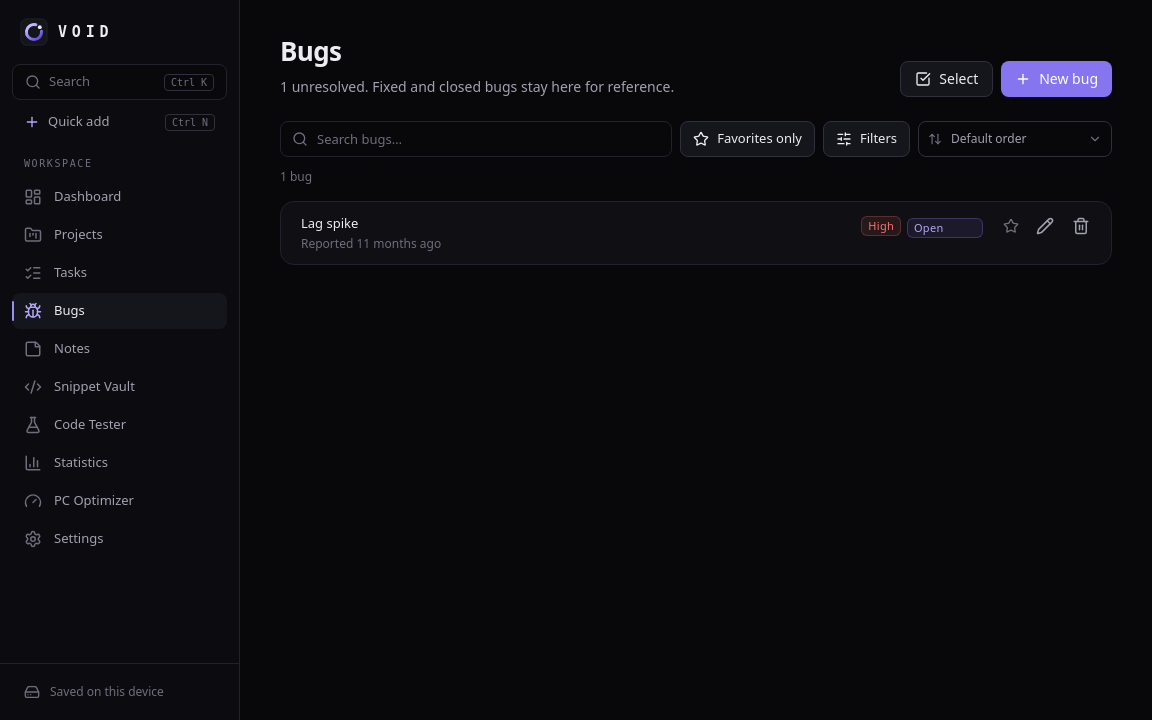
bug tracking › deletes a bug and can undo it
Click the button named "Delete Lag spike" at (1081,226), box [1063,208,1099,244]
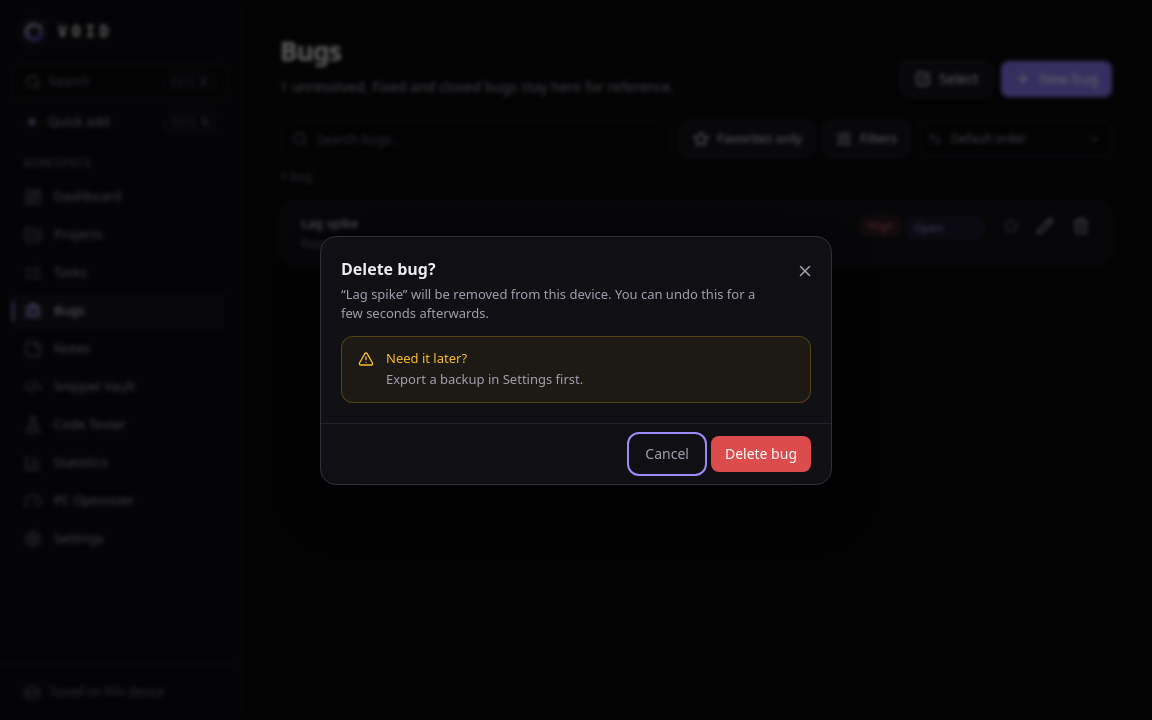
Click the button "Delete bug" at (761,454), box [711,436,811,472]
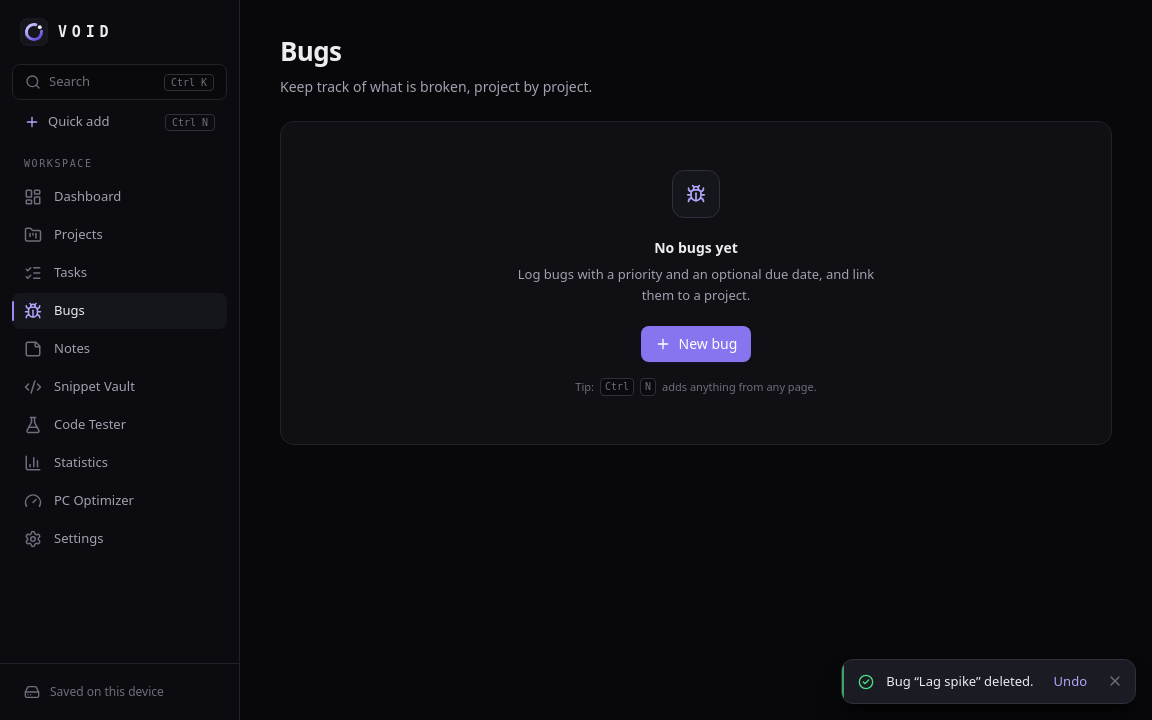
Click the button "Undo" at (1070,681), box [1046,670,1095,693]
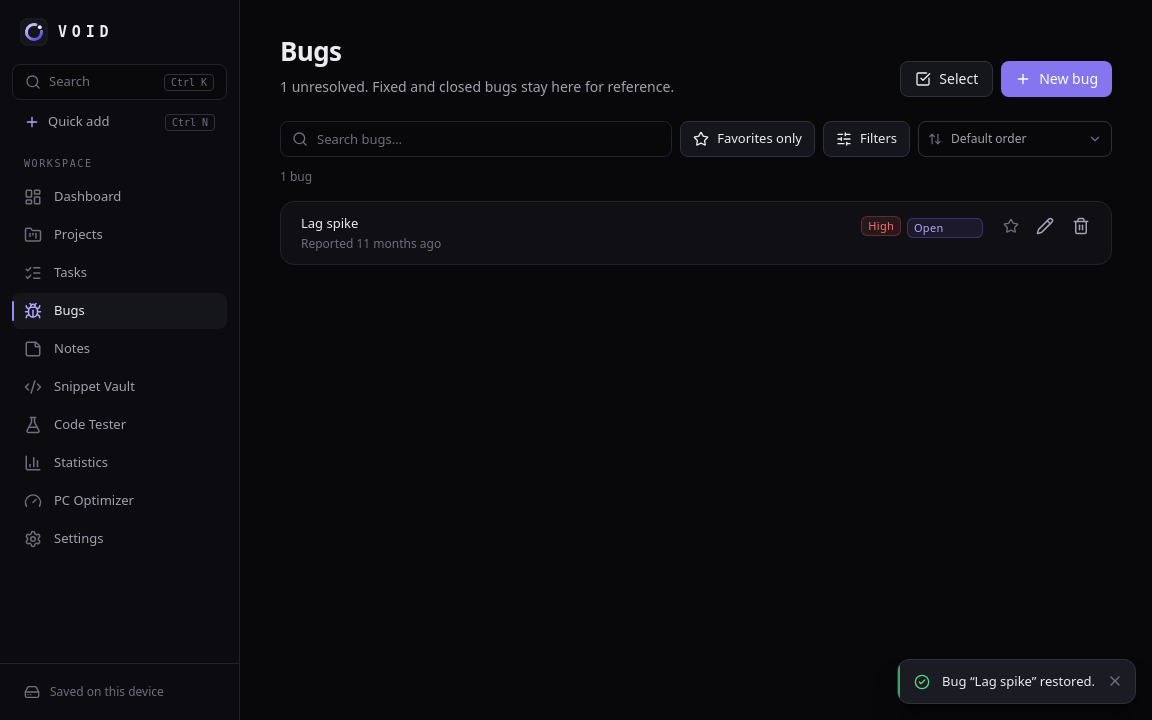
Now the text "Lag spike" is shown, box [301,214,358,232]
